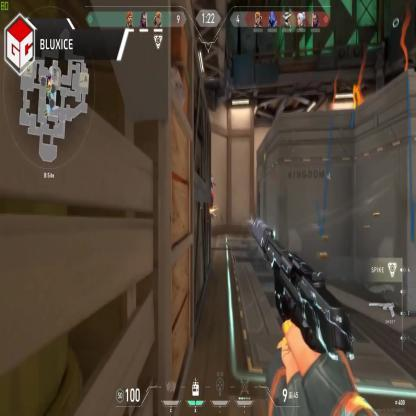enemy: (205, 171, 217, 216)
enemy_head: (207, 170, 212, 180)
